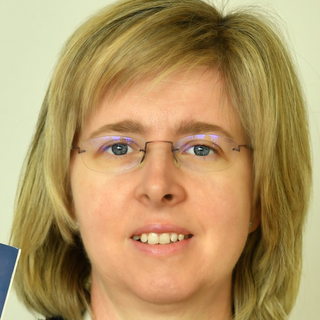eye: (177, 139, 225, 164), (96, 138, 143, 163)
